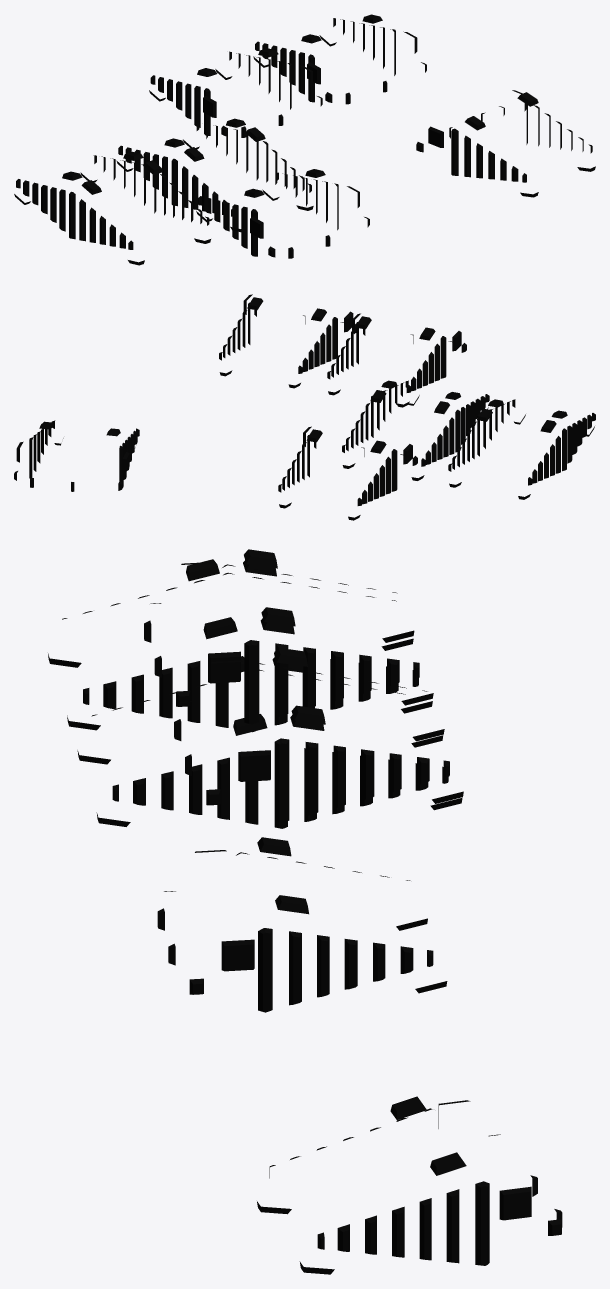
Rendered from prop_static_tan_container_01_09_0.glb.
3 renders of one model, top to bottom at view 1: azimuth 30°, elevation 25°; view 2: azimuth 150°, elevation 25°; view 3: azimuth 270°, elevation 25°, orthographic. The views are drawn at different scales.
Visible parts, largest first — view 1: tan_container_01_09_LOD0; view 2: tan_container_01_09_LOD0; view 3: tan_container_01_09_LOD0.
Boxes of the visible parts, box(x1,y1,x2,y2) form: tan_container_01_09_LOD0: box(14, 14, 595, 265); tan_container_01_09_LOD0: box(14, 294, 595, 520); tan_container_01_09_LOD0: box(48, 549, 562, 1274).
Size of what is drawn, in the model's own units: 12.07 by 4.44 by 5.4.
Materials: 1 (1 with a texture image).
